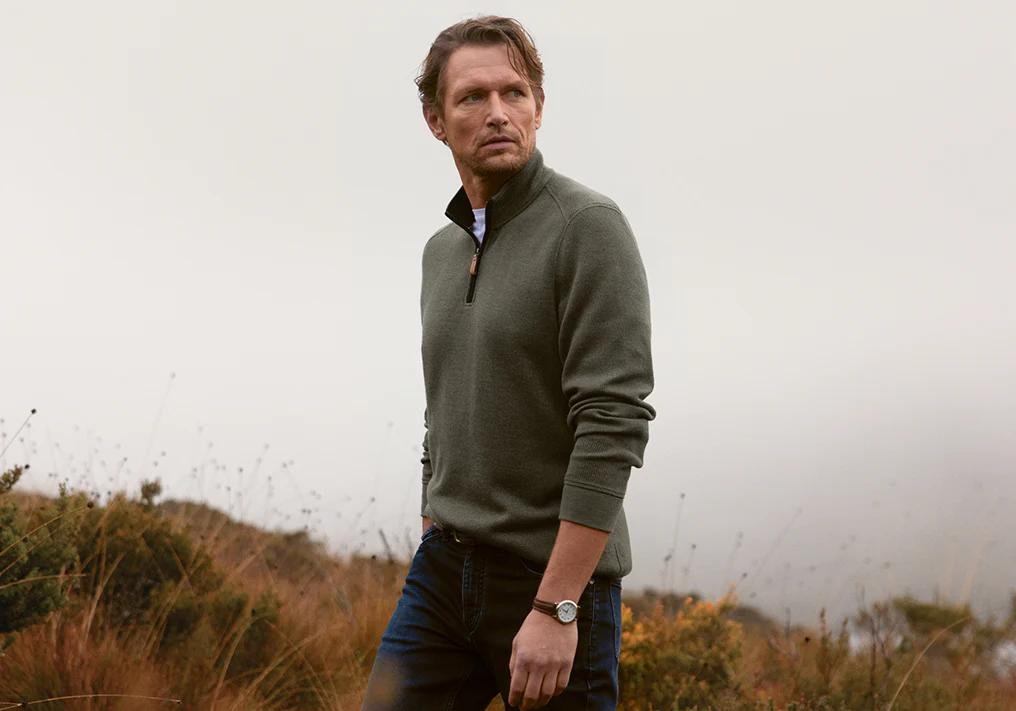sweater: (416, 147, 657, 583)
trousers: (356, 524, 628, 710)
